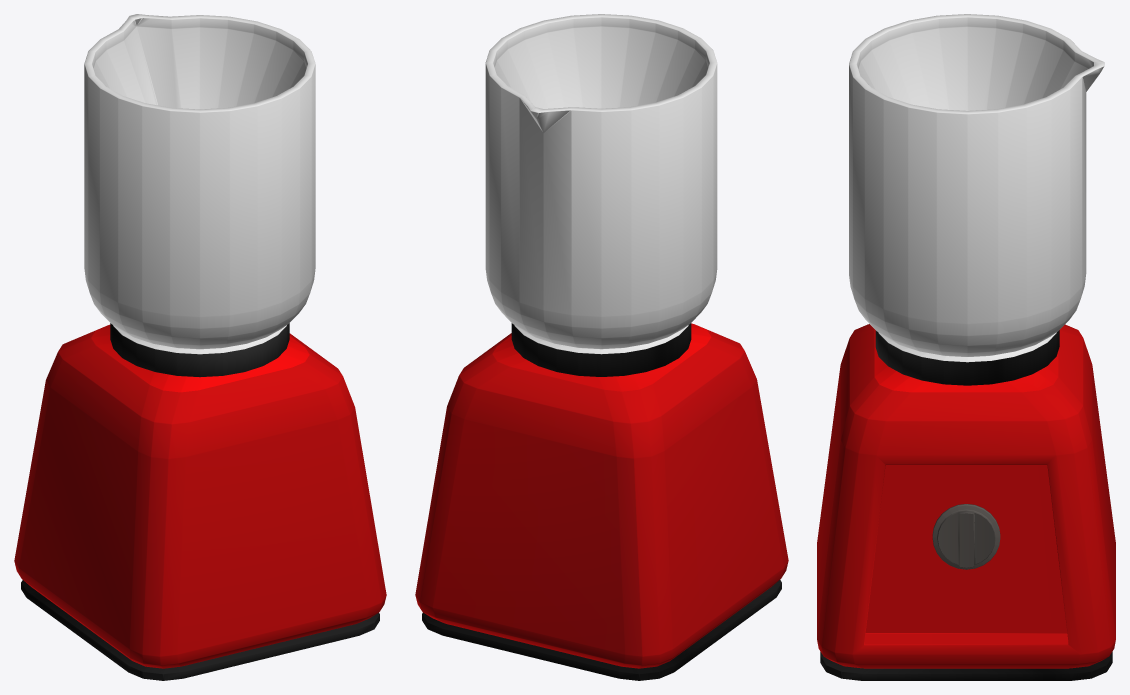
Rendered from Blender.fbx.
The picture shows the model from 3 angles, left to right: view 1: azimuth 30°, elevation 25°; view 2: azimuth 150°, elevation 25°; view 3: azimuth 270°, elevation 25°; orthographic projection. The views are drawn at different scales.
Visible parts, largest first — view 1: Blender; view 2: Blender; view 3: Blender.
Boxes of the visible parts, x1,y1,x2,y2 form: Blender: (14,14,386,680); Blender: (415,14,788,680); Blender: (817,14,1115,680).
Bounding box in the file's own units: 197 × 403 × 197.
